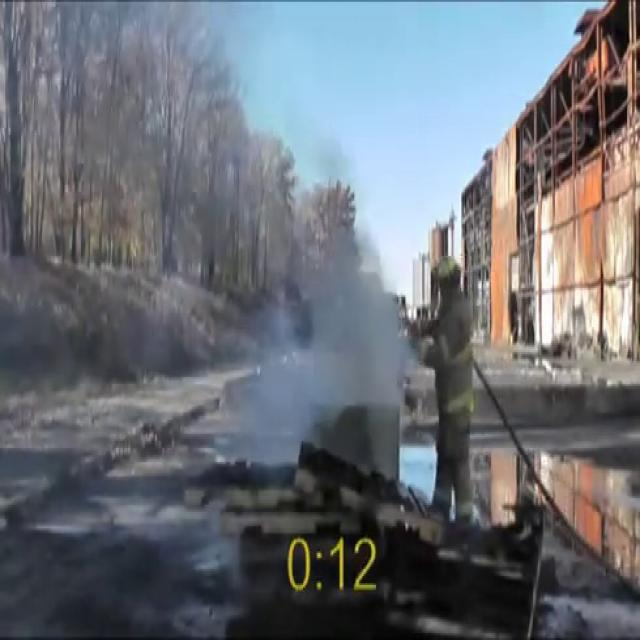Smoke: (247, 192, 413, 478)
